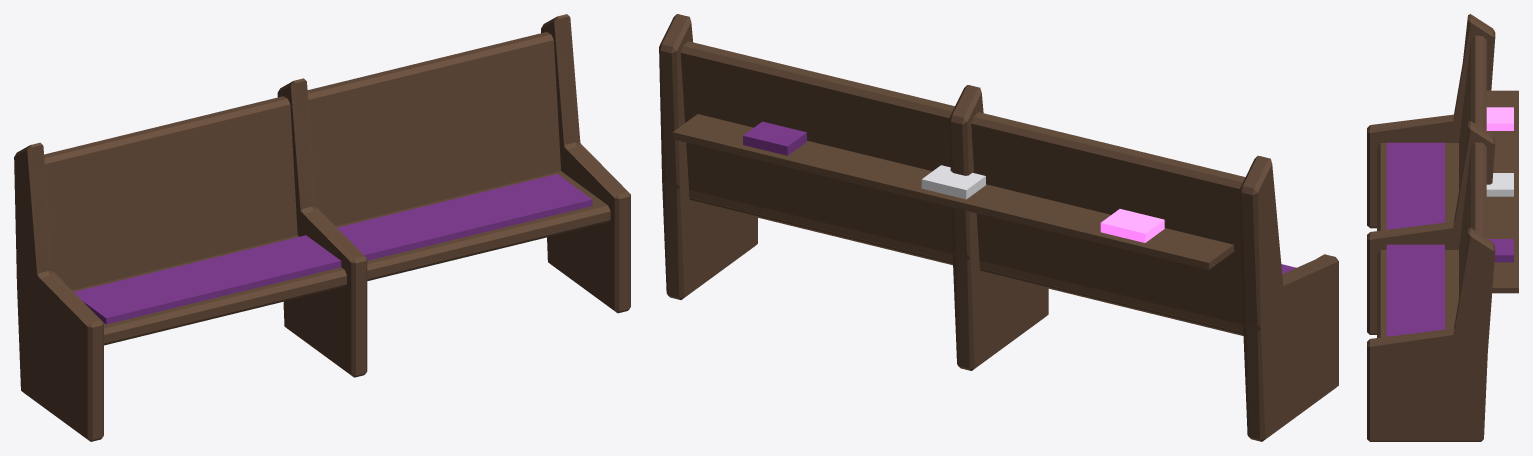
The model's file is bb_pew.glb.
3 views of the same model, side by side, from view 1: azimuth 30°, elevation 25°; view 2: azimuth 150°, elevation 25°; view 3: azimuth 270°, elevation 25° (orthographic). The views are drawn at different scales.
Visible parts, largest first — view 1: bb_pew; view 2: bb_pew; view 3: bb_pew.
Boxes of the visible parts, x1,y1,x2,y2 form: bb_pew: (14, 14, 630, 441); bb_pew: (659, 14, 1338, 441); bb_pew: (1367, 14, 1518, 441).
Bounding box in the file's own units: 2.68 × 1.19 × 0.78.
